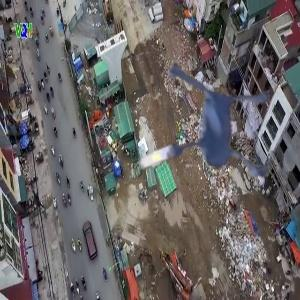drone: (97, 29, 300, 233)
